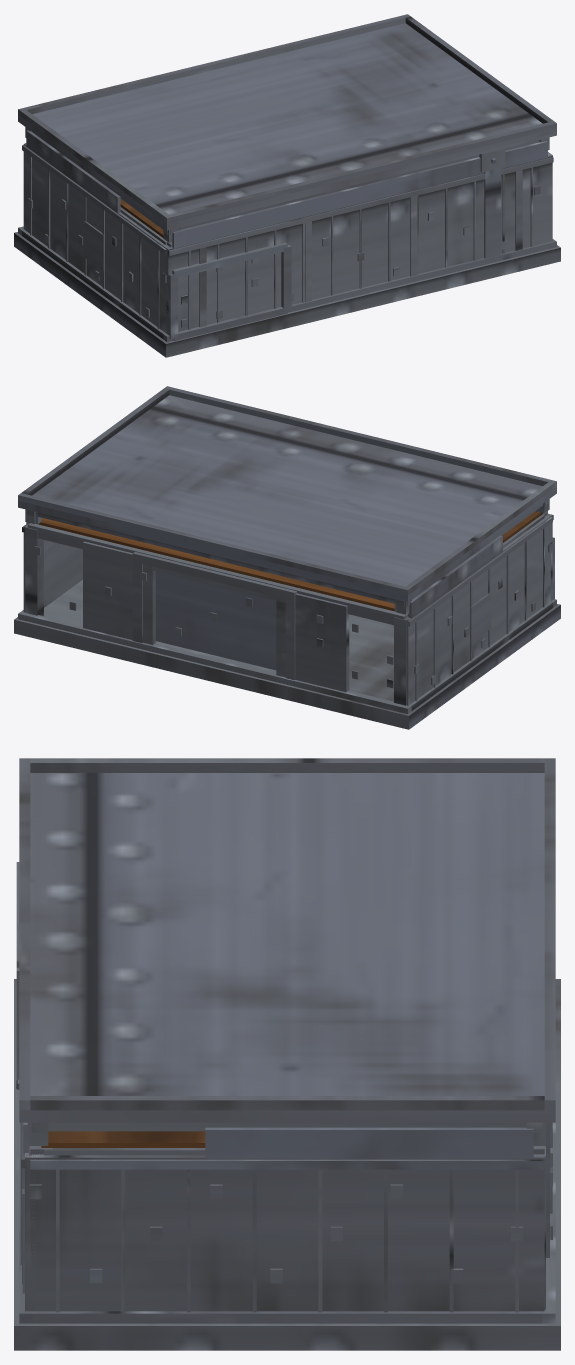
The picture shows the model from 3 angles, top to bottom: view 1: azimuth 30°, elevation 25°; view 2: azimuth 150°, elevation 25°; view 3: azimuth 270°, elevation 25°; orthographic projection. The views are drawn at different scales.
Parts seen in each view (by area): view 1: SM_HDBF_BoxFarm_Top_LOD1; view 2: SM_HDBF_BoxFarm_Top_LOD1; view 3: SM_HDBF_BoxFarm_Top_LOD1.
Boxes of the visible parts, x1,y1,x2,y2 form: SM_HDBF_BoxFarm_Top_LOD1: [14, 14, 560, 357]; SM_HDBF_BoxFarm_Top_LOD1: [14, 386, 560, 729]; SM_HDBF_BoxFarm_Top_LOD1: [14, 758, 560, 1350].
Bounding box in the file's own units: 3 × 1 × 2.
4 materials, 4 textured.
